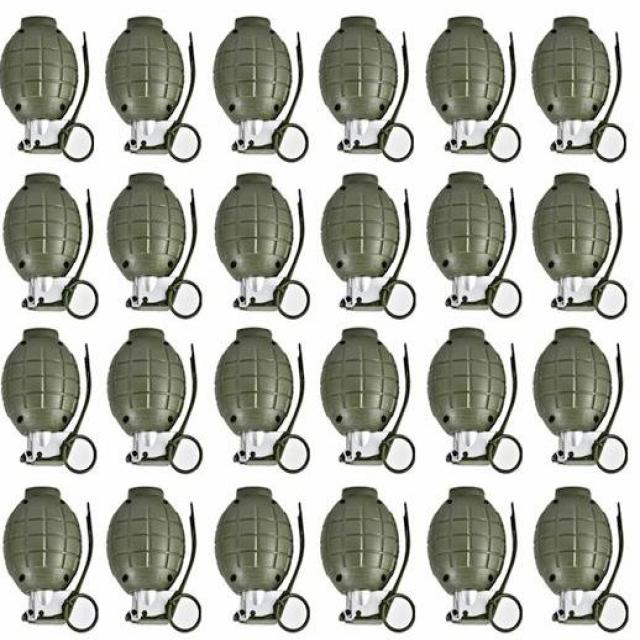grenade: (107, 487, 204, 633), (534, 326, 629, 475), (106, 15, 201, 164), (426, 15, 521, 164), (214, 15, 309, 164), (533, 15, 628, 164), (321, 487, 417, 633), (321, 326, 415, 475), (320, 15, 414, 164), (108, 328, 203, 475), (215, 328, 310, 475), (427, 172, 521, 320), (5, 175, 100, 321), (534, 175, 629, 321), (535, 487, 630, 633), (427, 328, 521, 475), (2, 14, 94, 164), (428, 487, 523, 632), (215, 488, 310, 633), (5, 487, 100, 632), (109, 175, 203, 321), (2, 329, 96, 475), (321, 177, 416, 321), (215, 176, 309, 321)
